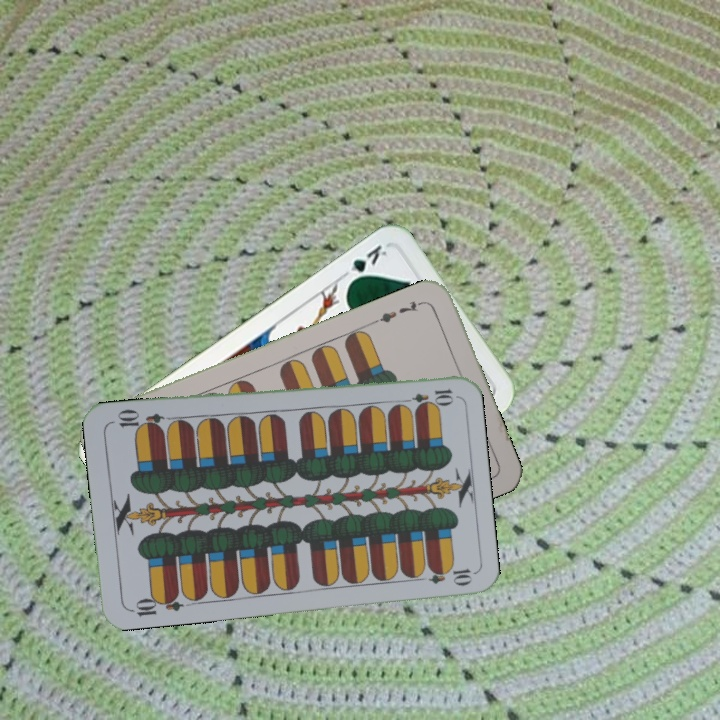E10: (126, 589, 185, 619), (397, 385, 456, 408)
E7: (371, 296, 428, 326)
GK: (337, 241, 390, 287)
